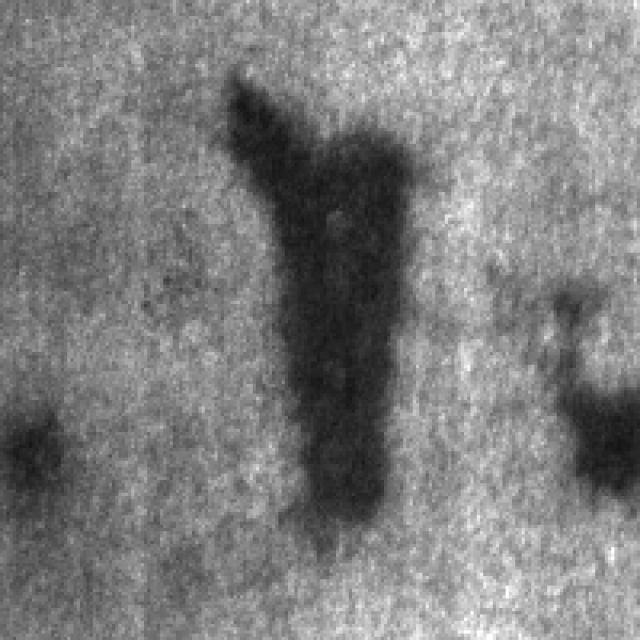patches: (211, 61, 413, 541), (560, 368, 637, 499), (0, 393, 70, 486)
